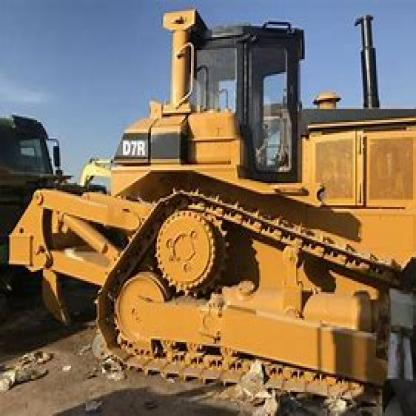bull_dozer/loader/grader: (13, 4, 414, 396)
